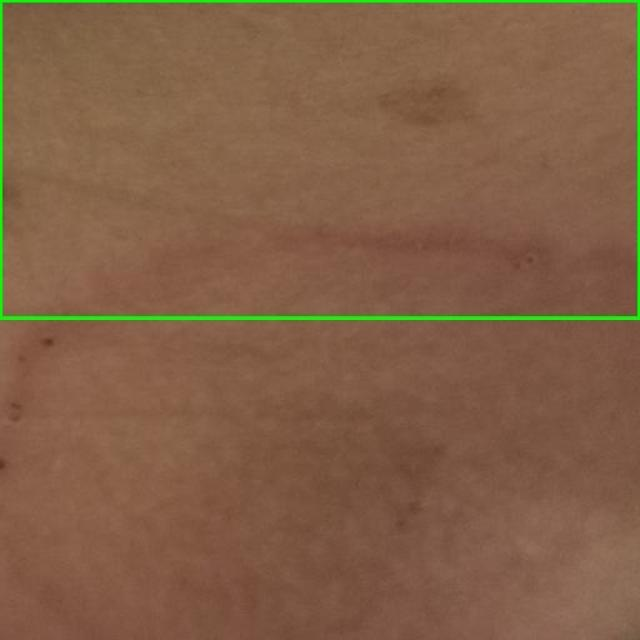Tinea Corporis: (0, 0, 639, 318)
